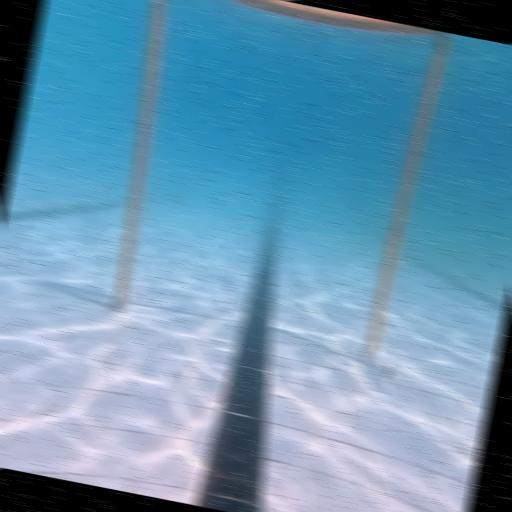gate: (86, 0, 459, 380)
